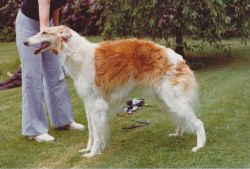borzoi: (23, 27, 207, 157)
